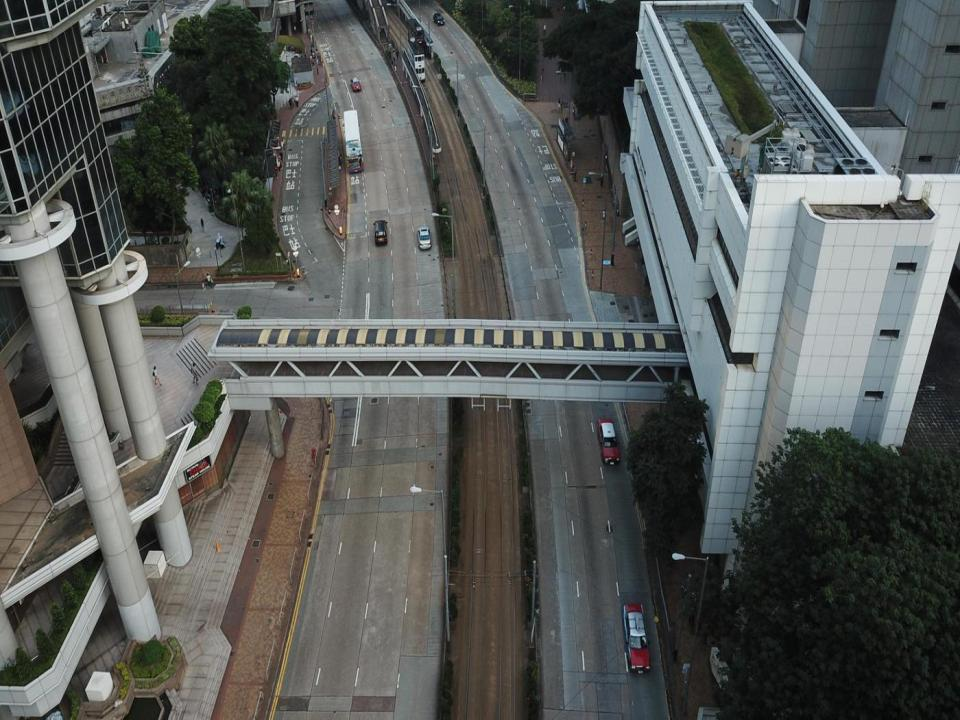bus: (341, 108, 365, 172), (406, 35, 426, 85), (406, 18, 426, 61)
car: (620, 602, 650, 677), (596, 419, 622, 469), (374, 219, 387, 248), (417, 224, 431, 249), (349, 76, 363, 92), (434, 11, 444, 26)
